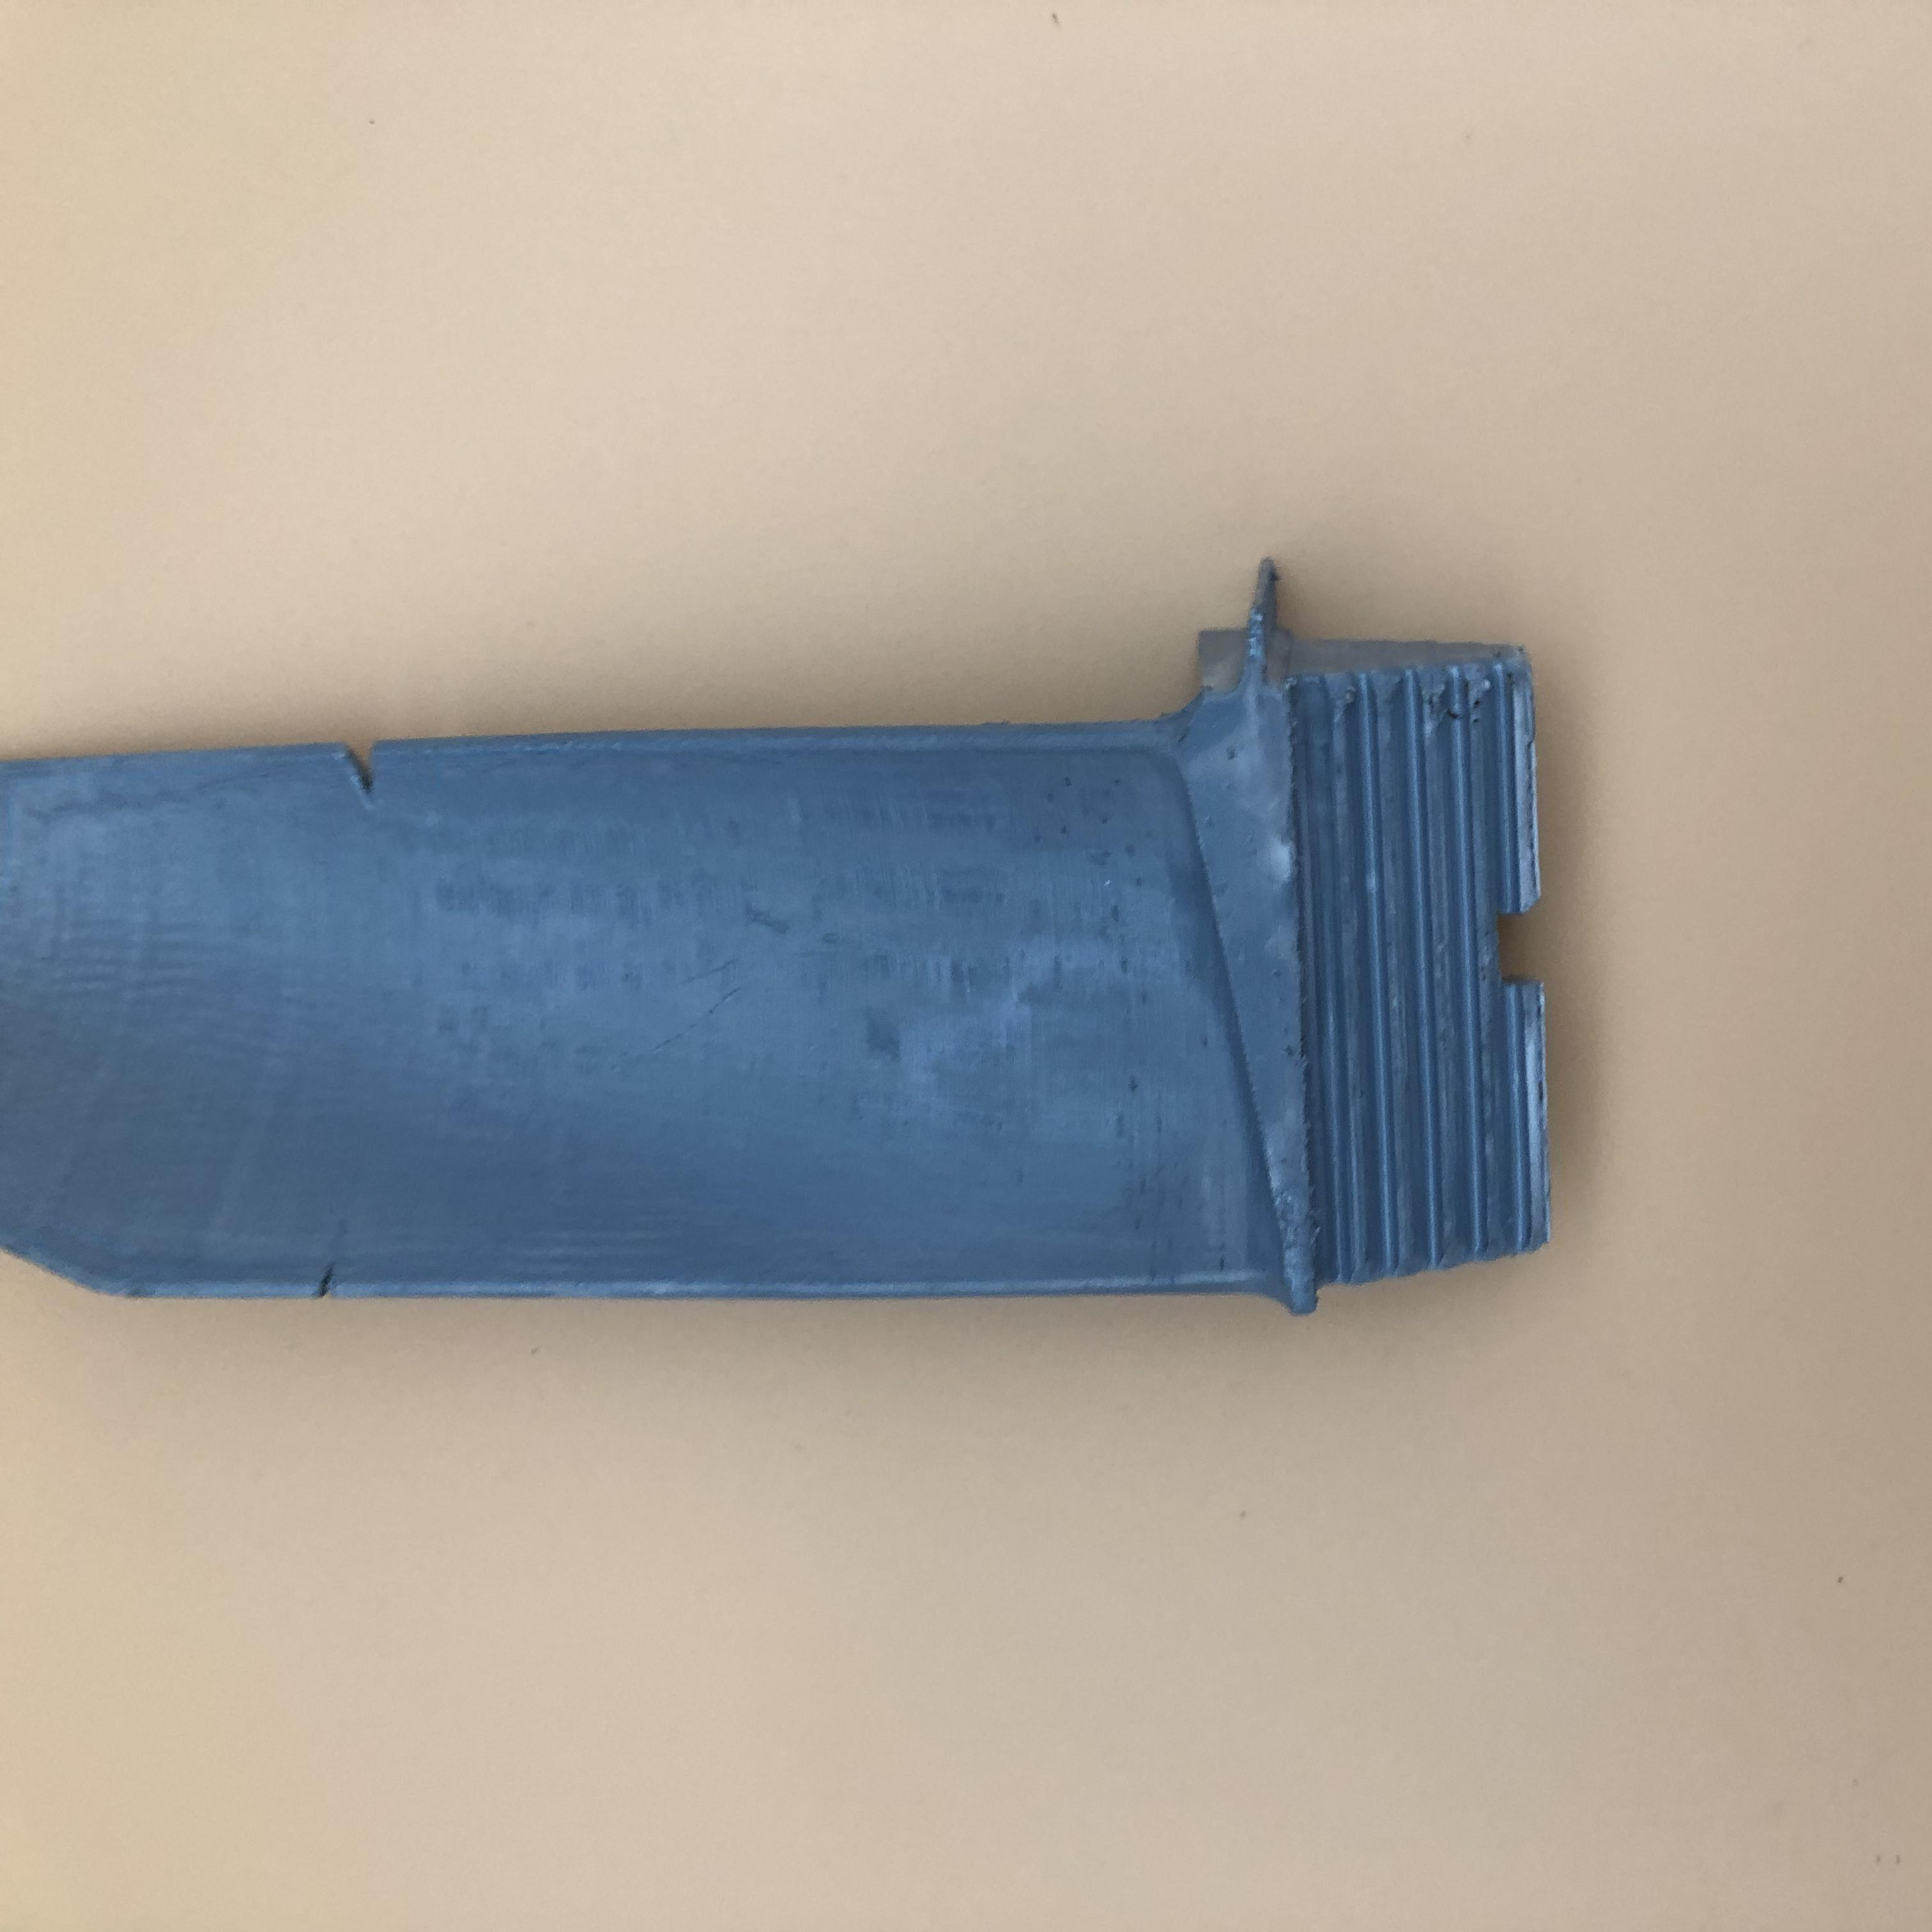groove: (334, 743, 405, 809), (310, 1253, 352, 1300)
